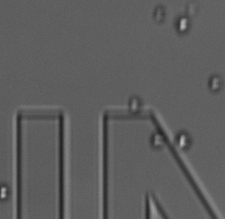Dead Cell: (127, 94, 144, 114), (150, 5, 168, 21)
Living Cell: (175, 15, 193, 33), (149, 131, 166, 150), (178, 129, 191, 152), (207, 75, 222, 92), (1, 183, 12, 202)
